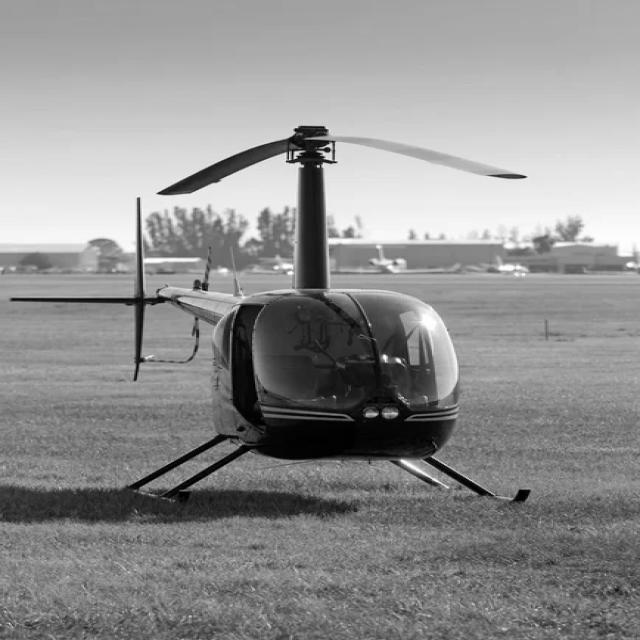Helicopter: (11, 126, 524, 501)
